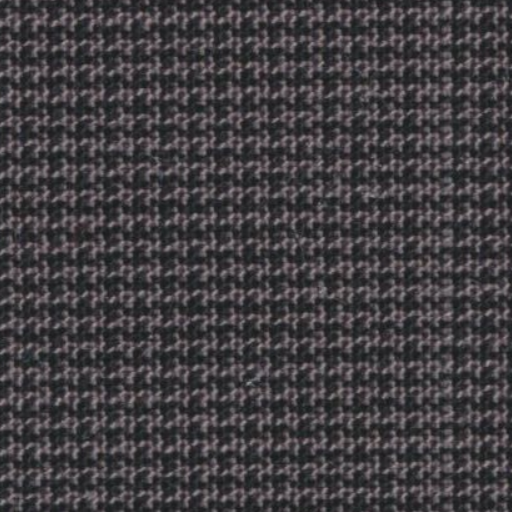TuoSha: (376, 23, 492, 494)
